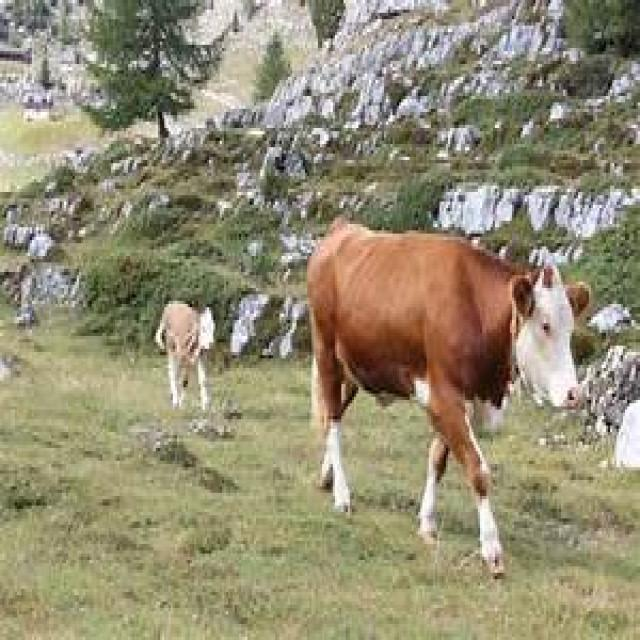animal: (309, 219, 589, 563), (157, 305, 216, 404)
